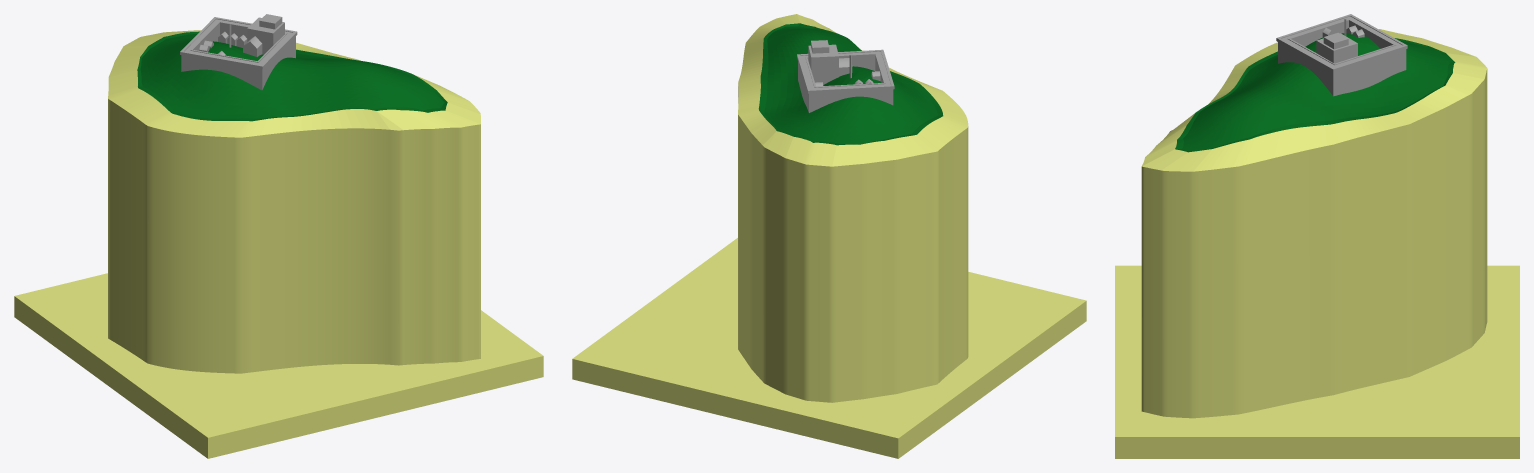
The model's file is Quest_Medium_Island_03.fbx.
3 views of the same model, side by side, from view 1: azimuth 30°, elevation 25°; view 2: azimuth 150°, elevation 25°; view 3: azimuth 270°, elevation 25° (orthographic). The views are drawn at different scales.
Visible parts, largest first — view 1: Quest_Medium_Island_03, Medium_Quest_03; view 2: Quest_Medium_Island_03, Medium_Quest_03; view 3: Quest_Medium_Island_03, Medium_Quest_03.
Part boxes in pixels (x1,y1,x2,y2): Quest_Medium_Island_03: (14,30,543,458); Medium_Quest_03: (180,14,297,90); Quest_Medium_Island_03: (572,14,1086,458); Medium_Quest_03: (797,40,894,112); Quest_Medium_Island_03: (1115,29,1519,458); Medium_Quest_03: (1276,14,1407,96).
Size of the model in its own units: 68.06 by 62.42 by 68.06.
